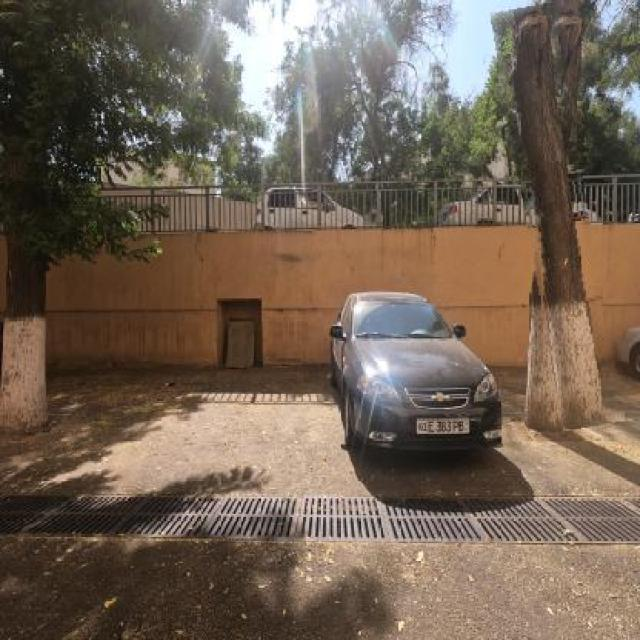tree trunk: (508, 4, 608, 430), (5, 106, 52, 432), (362, 103, 398, 232)
